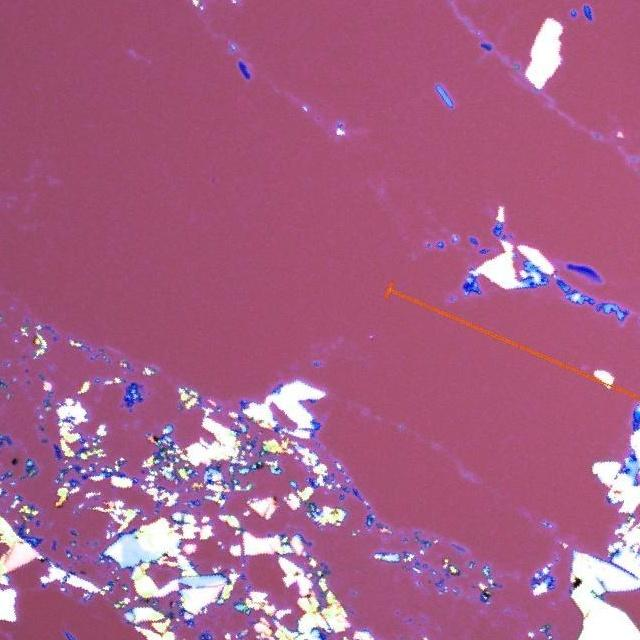monolayer-eWW4: (584, 272, 604, 284)
